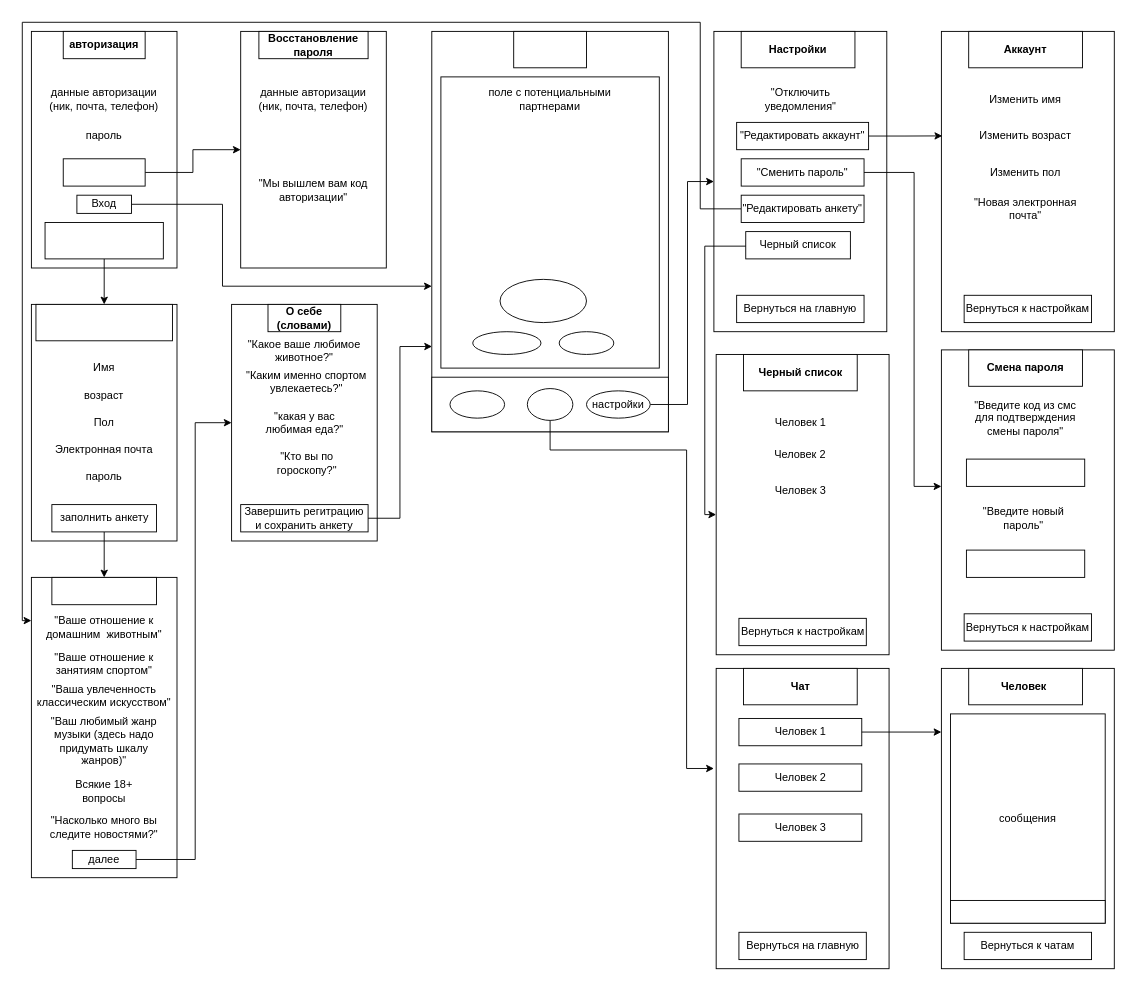
This 1130x985 diagram has some shape labels left out. The centre of each missing label's shape, as x and y in pixels:
"Все еще не с нами" Регистрация: [103,240]
анкета: [477,404]
Главная страница: [549,49]
лайк: [586,342]
не помню пароль: [103,172]
О себе (оценками от 1 до 10): [104,590]
Поле для ввода сообщения: [1027,911]
пропустить: [506,342]
Просмотреть анкету: [542,300]
Регистрация обязательных данных: [103,322]
чаты: [549,404]
